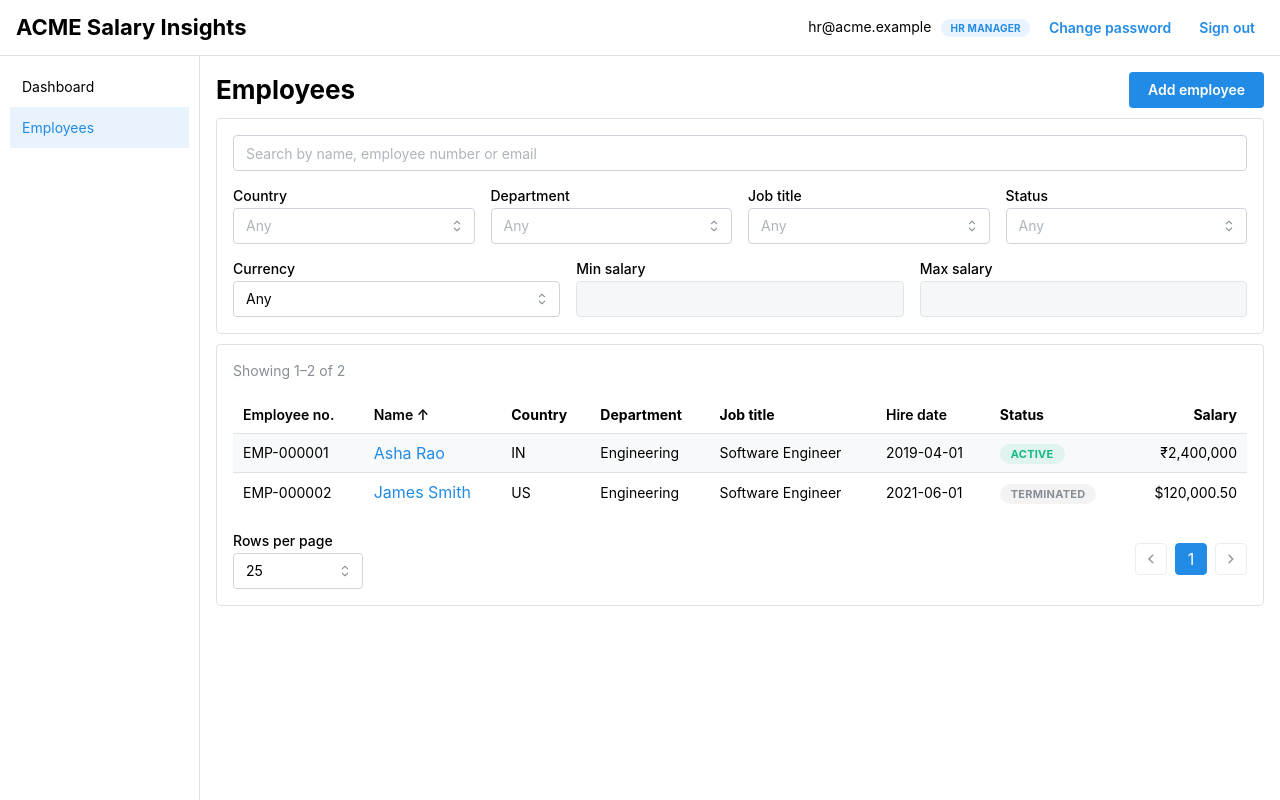
Test: Signing in › shows who is signed in and their roles, and signs out to a fresh login page
Expected: the element named "Signed in user" shows "hr@acme.example", left=808, top=18, right=931, bottom=35
Expected: the element named "Signed in user" shows "HR manager", left=950, top=22, right=1021, bottom=34
Click the button "Sign out".
click(1227, 28)  # box left=1190, top=14, right=1264, bottom=40
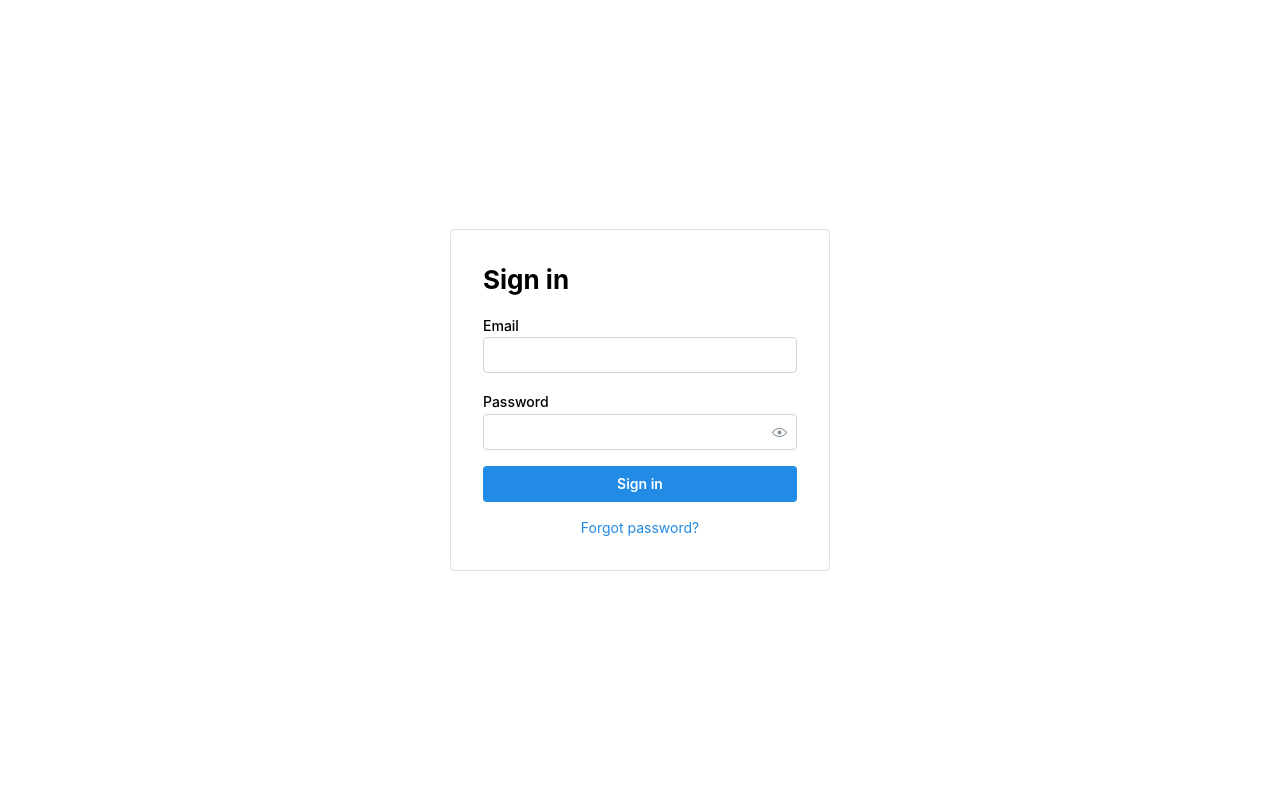
Expected: the heading "Sign in" is shown, left=483, top=264, right=569, bottom=294
